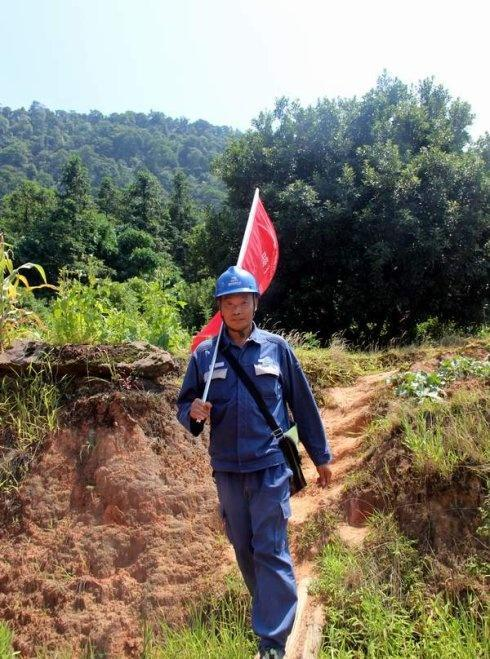helmet: (208, 266, 261, 298)
no-vest: (201, 337, 293, 472)
person: (185, 265, 312, 657)
